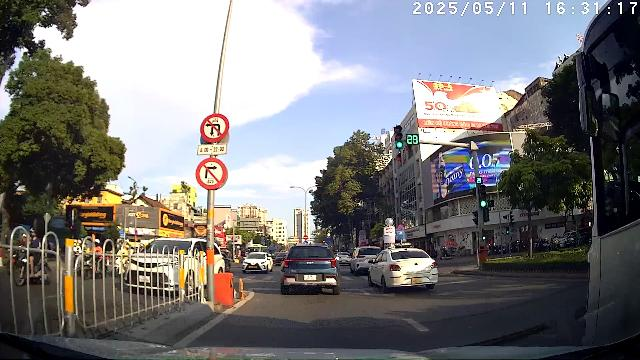103b-cam-oto-re-phai: (195, 157, 227, 190)
